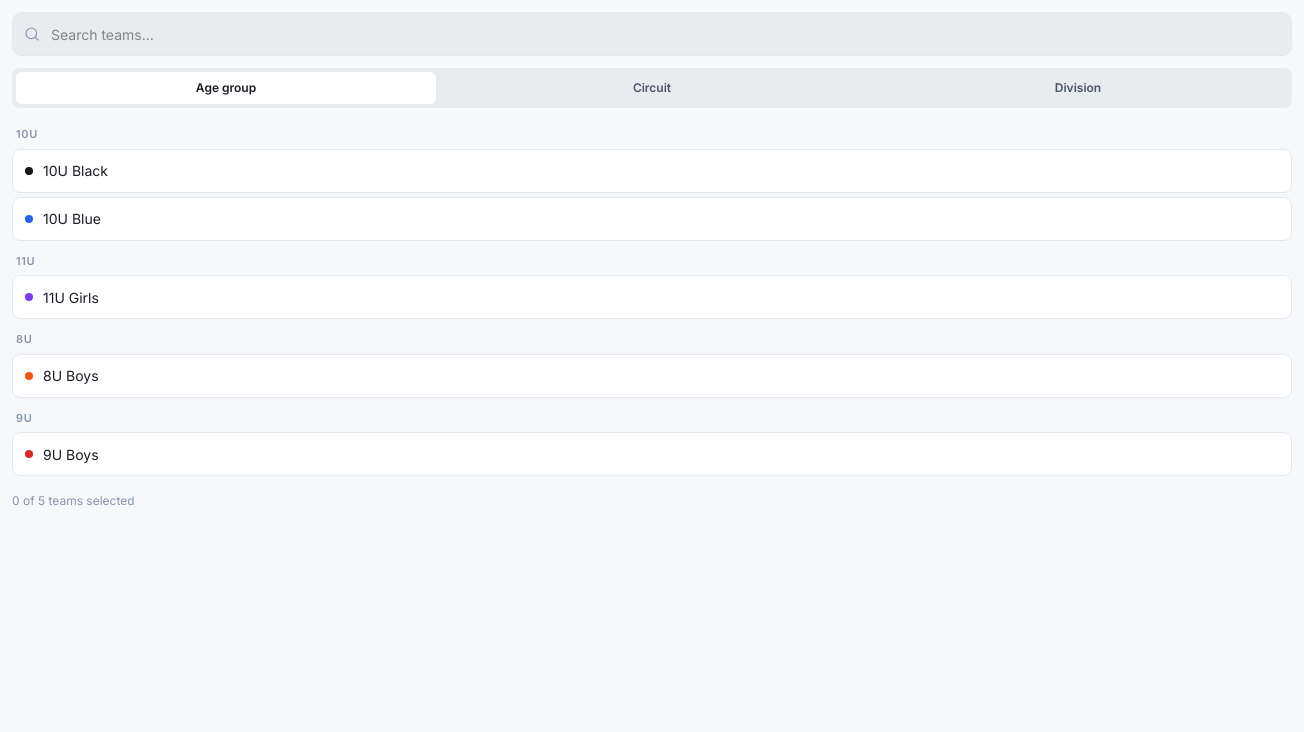
Test case: TeamGroupedPicker › b. search filters chips case-insensitively by name
This screenshot has width=1304, height=732.
Type "GIRLS" into the field labelled "Search teams" at (652, 34), box [12, 12, 1292, 56]
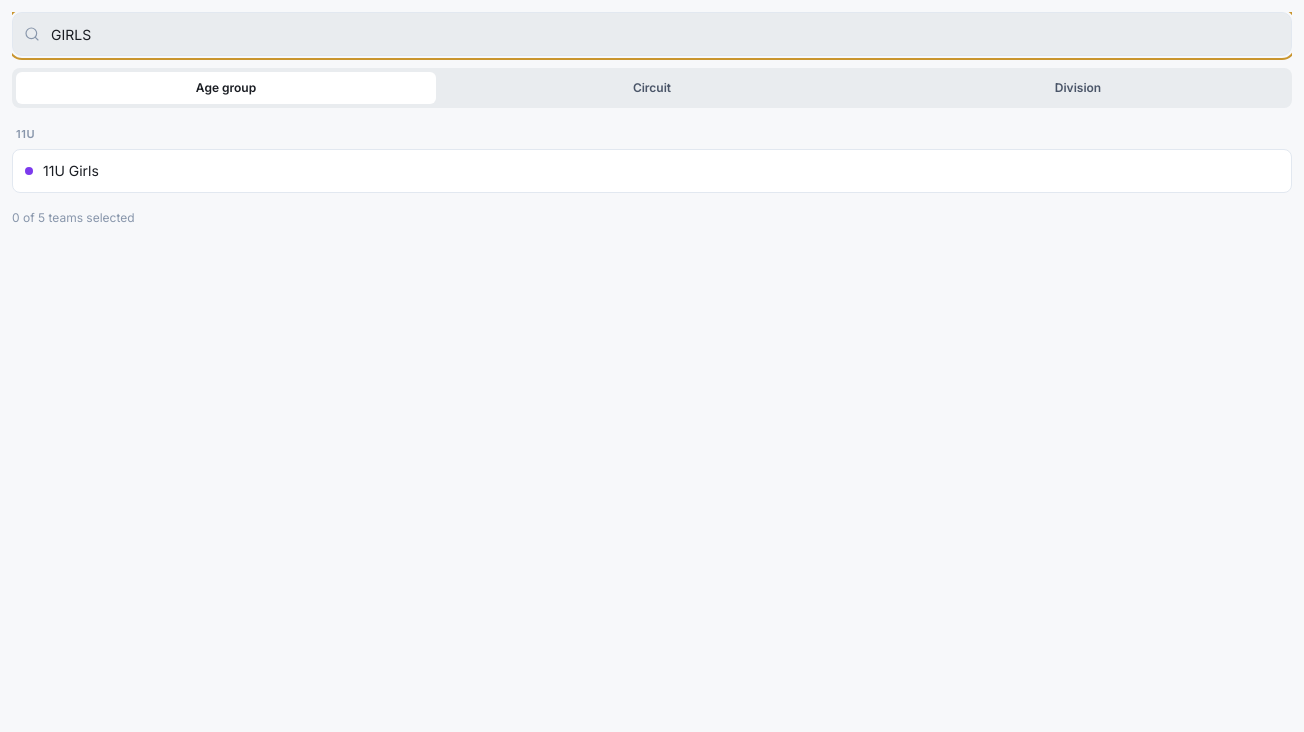
Check: the text "11U Girls" is shown, box [43, 160, 99, 181]
Check: the number of checkboxes is 1, box [12, 148, 1292, 192]
